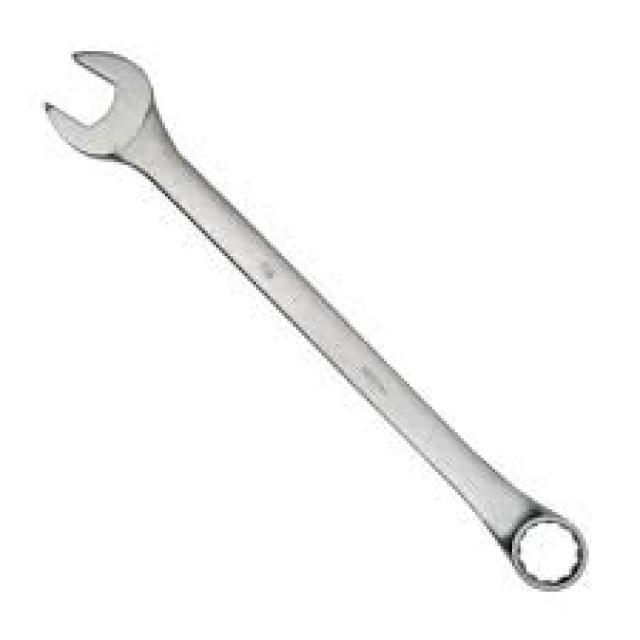Wrench: (33, 40, 600, 604)
